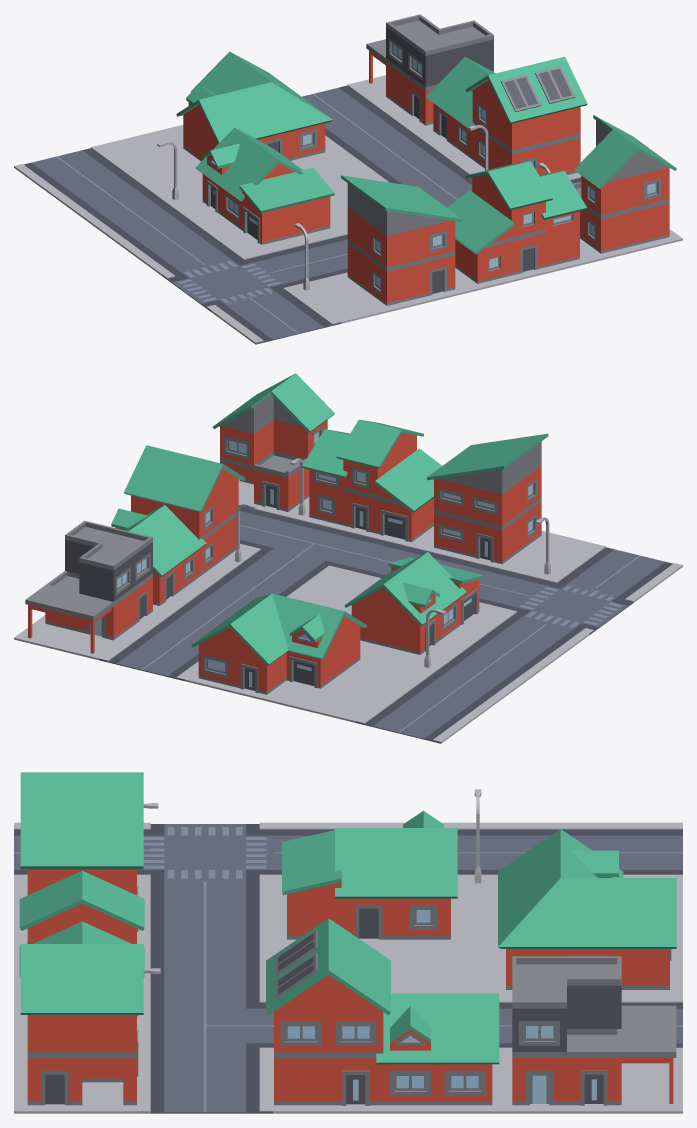
File: suburban_block1.fbx
3 views of the same model, one above another, from view 1: azimuth 30°, elevation 25°; view 2: azimuth 150°, elevation 25°; view 3: azimuth 270°, elevation 25° (orthographic). The views are drawn at different scales.
Parts seen in each view (by area): view 1: house_type03, house_type14, house_type15, house_type04, house_type05, house_type16, house_type19, road_straight__6_, road_straight__7_, road_straight__8_, road_straight__9_, road_straight__3_ (+14 smaller); view 2: house_type03, house_type14, house_type05, house_type15, house_type19, house_type16, house_type04, road_straight__8_, road_straight__6_, road_straight__7_, road_intersectionLine, road_crossroadPath (+15 smaller); view 3: house_type03, house_type19, house_type05, house_type04, house_type16, house_type15, road_straight, road_crossroadPath, road_intersectionLine, road_straight__5_, house_type14, road_straight__1_ (+18 smaller).
Part boxes in pixels (box(x1,y1,x2,y2)): house_type03: box(426, 56, 587, 175); house_type14: box(447, 161, 586, 283); house_type15: box(341, 175, 462, 305); house_type04: box(195, 127, 334, 244); house_type05: box(176, 51, 332, 161); house_type16: box(573, 115, 676, 253); house_type19: box(366, 14, 493, 125); road_straight__6_: box(112, 217, 246, 275); road_straight__7_: box(63, 181, 197, 239); road_straight__8_: box(14, 145, 148, 203); road_straight__9_: box(207, 287, 341, 344); road_straight__3_: box(325, 119, 453, 175); house_type03: box(111, 445, 245, 605); house_type14: box(302, 419, 441, 542); house_type05: box(191, 593, 367, 694); house_type15: box(426, 433, 548, 564); house_type19: box(25, 520, 152, 653); house_type16: box(212, 373, 334, 511); house_type04: box(344, 552, 483, 654); road_straight__8_: box(355, 685, 490, 743); road_straight__6_: box(455, 613, 589, 671); road_straight__7_: box(405, 649, 539, 707); road_intersectionLine: box(248, 514, 381, 570); road_crossroadPath: box(504, 577, 638, 634); house_type03: box(266, 918, 499, 1105); house_type19: box(512, 956, 676, 1105); house_type05: box(498, 829, 676, 989); house_type04: box(282, 810, 457, 939); house_type16: box(20, 944, 143, 1105); house_type15: box(20, 772, 143, 931); road_straight: box(137, 1053, 273, 1113); road_crossroadPath: box(137, 822, 273, 881); road_intersectionLine: box(137, 996, 273, 1054); road_straight__5_: box(137, 880, 273, 939); house_type14: box(19, 870, 144, 1016); road_straight__1_: box(137, 938, 273, 996).
Bounding box in the file's own units: 500 × 115 × 490.
